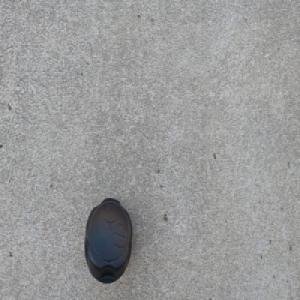FuelCap: (83, 196, 134, 287)
